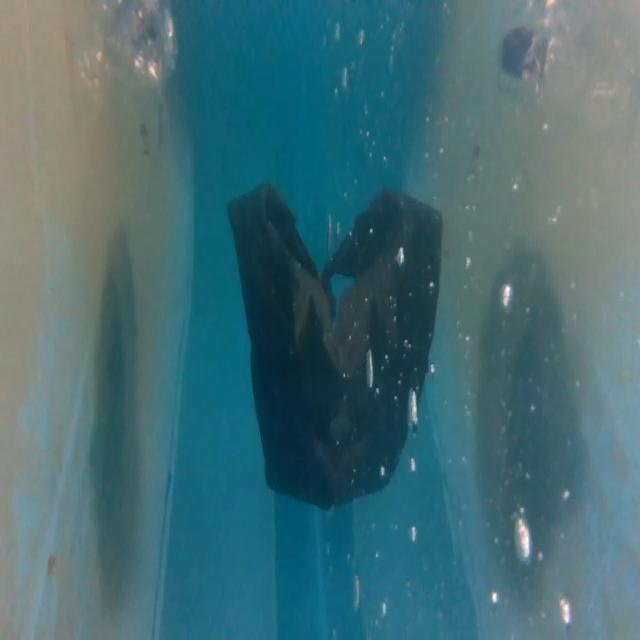plastic bags: (225, 177, 448, 513)
